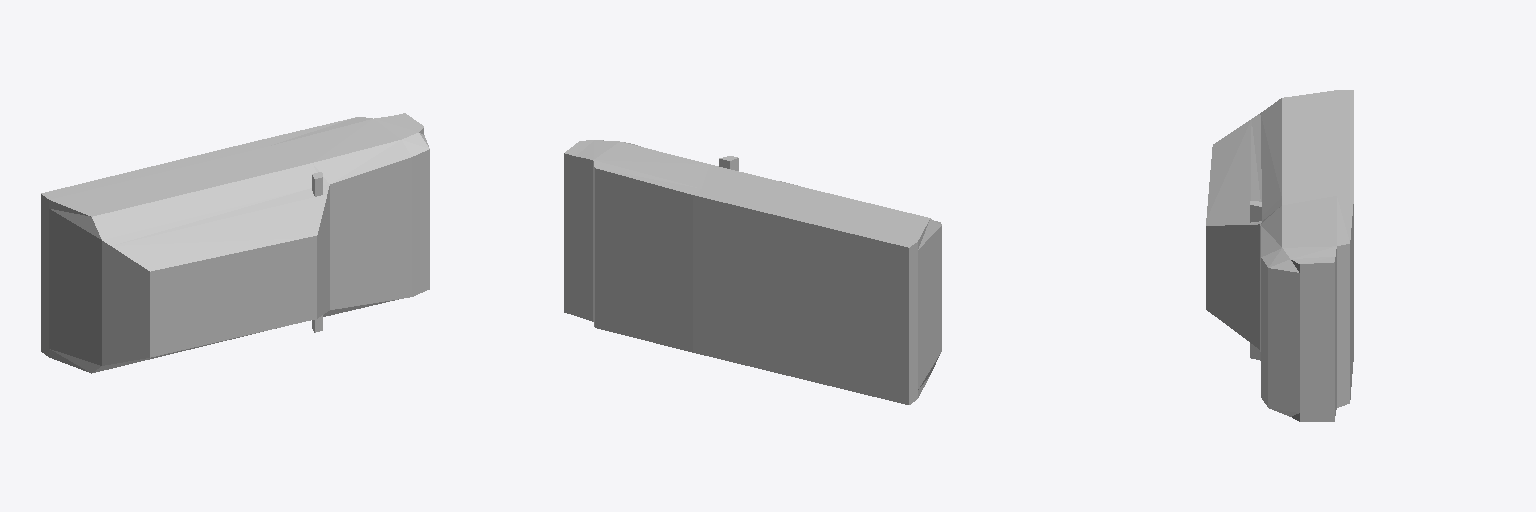
File: suv_chassis_col.obj
3 views of the same model, side by side, from view 1: azimuth 30°, elevation 25°; view 2: azimuth 150°, elevation 25°; view 3: azimuth 270°, elevation 25° (orthographic).
Parts seen in each view (by area): view 1: Nissan_Collision_0502.001; view 2: Nissan_Collision_0502.001; view 3: Nissan_Collision_0502.001.
Boxes of the visible parts, x1=… form: Nissan_Collision_0502.001: x1=41, y1=113, x2=429, y2=373; Nissan_Collision_0502.001: x1=564, y1=140, x2=941, y2=404; Nissan_Collision_0502.001: x1=1206, y1=90, x2=1353, y2=421.
Size of the model in its own units: 5.19 by 2.25 by 1.87.